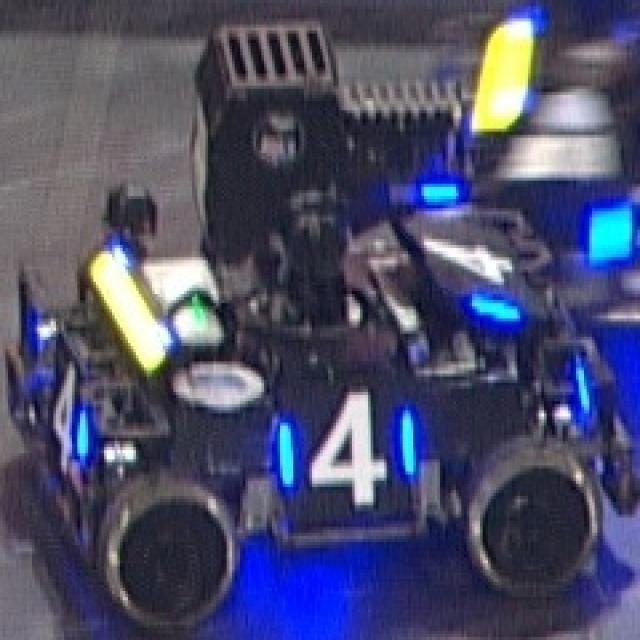B4: (416, 159, 528, 352), (270, 381, 422, 516), (17, 352, 108, 481)
